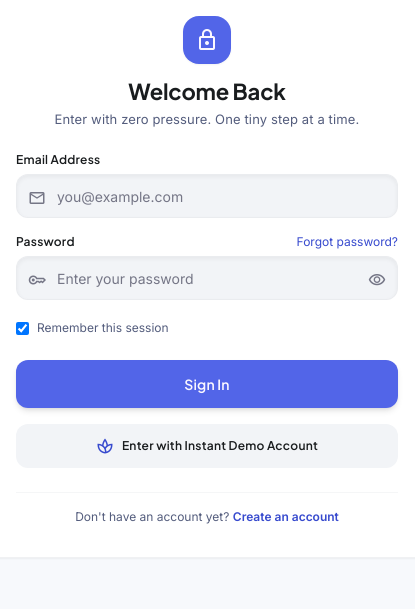
Test case: Steplight AI Phase 3 Frontend Authentication Integration Suite › handles failed login with generic user-friendly error
The width and height of the screenshot is (415, 609).
Type "person@example.test" into the field labelled "Email Address".
click(207, 196); type("person@example.test")  # box x1=16 y1=174 x2=398 y2=218
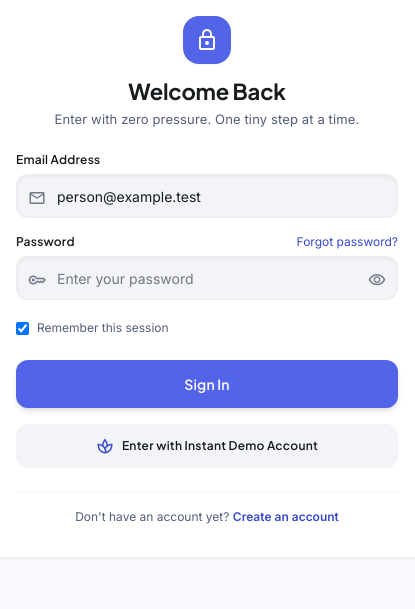
Type "WrongPassword123!" into the password field labelled "Password".
click(207, 278); type("WrongPassword123!")  # box x1=16 y1=256 x2=398 y2=300
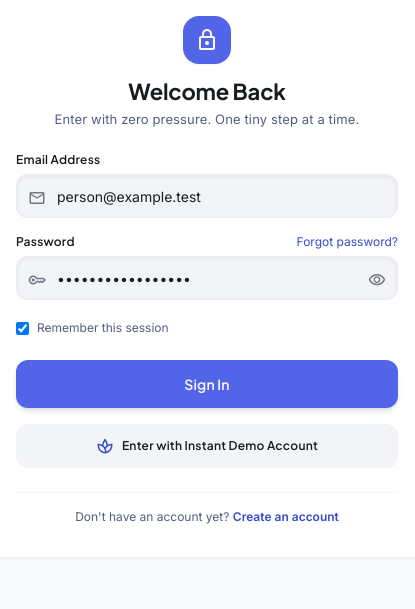
Click the button "Sign In".
click(207, 384)  # box x1=16 y1=360 x2=398 y2=408
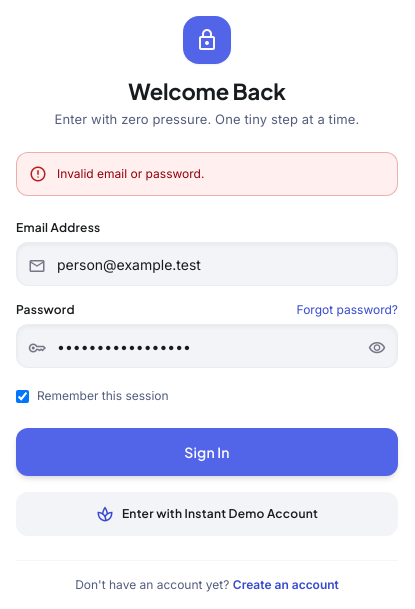
Now the message reads "Invalid email or password.", box x1=57 y1=166 x2=204 y2=181
